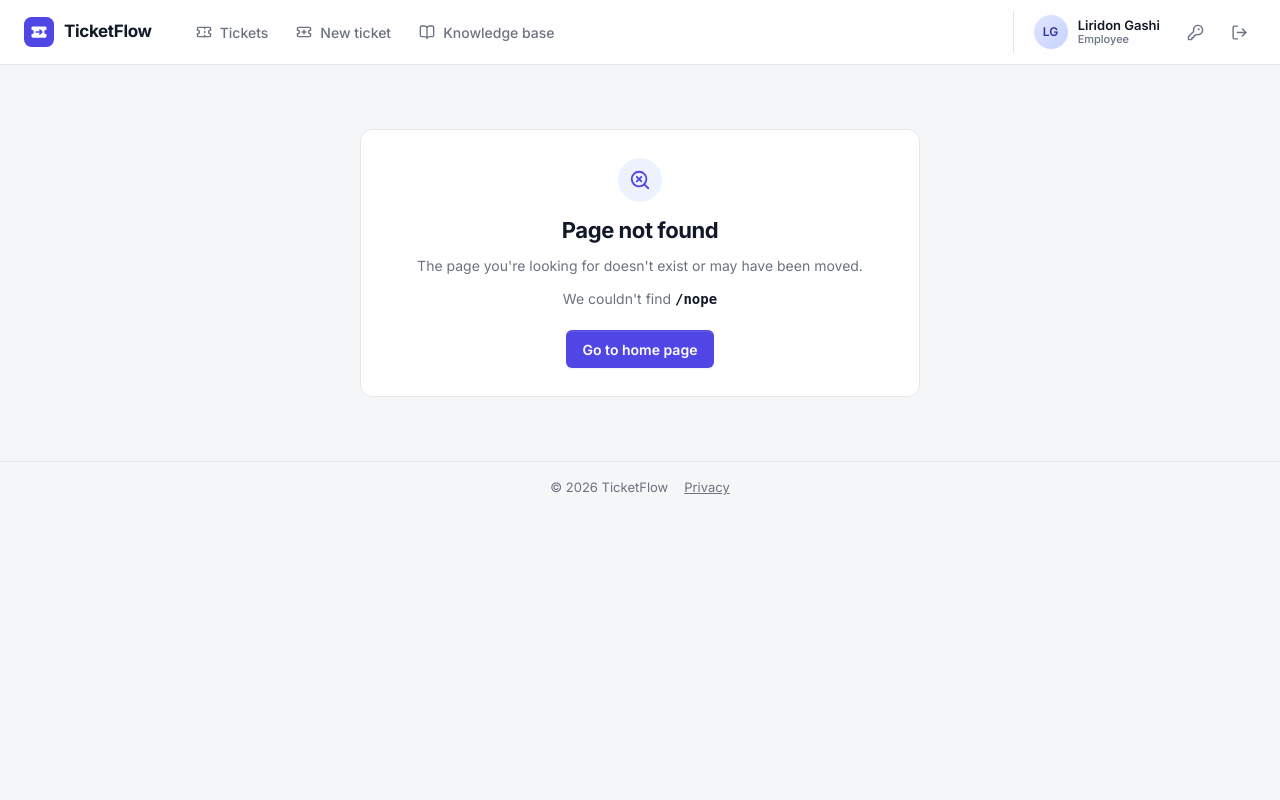
Test: a URL that matches no route › the top bar works from it
Click the link "New ticket". click: [344, 32]
box: [296,24,391,40]
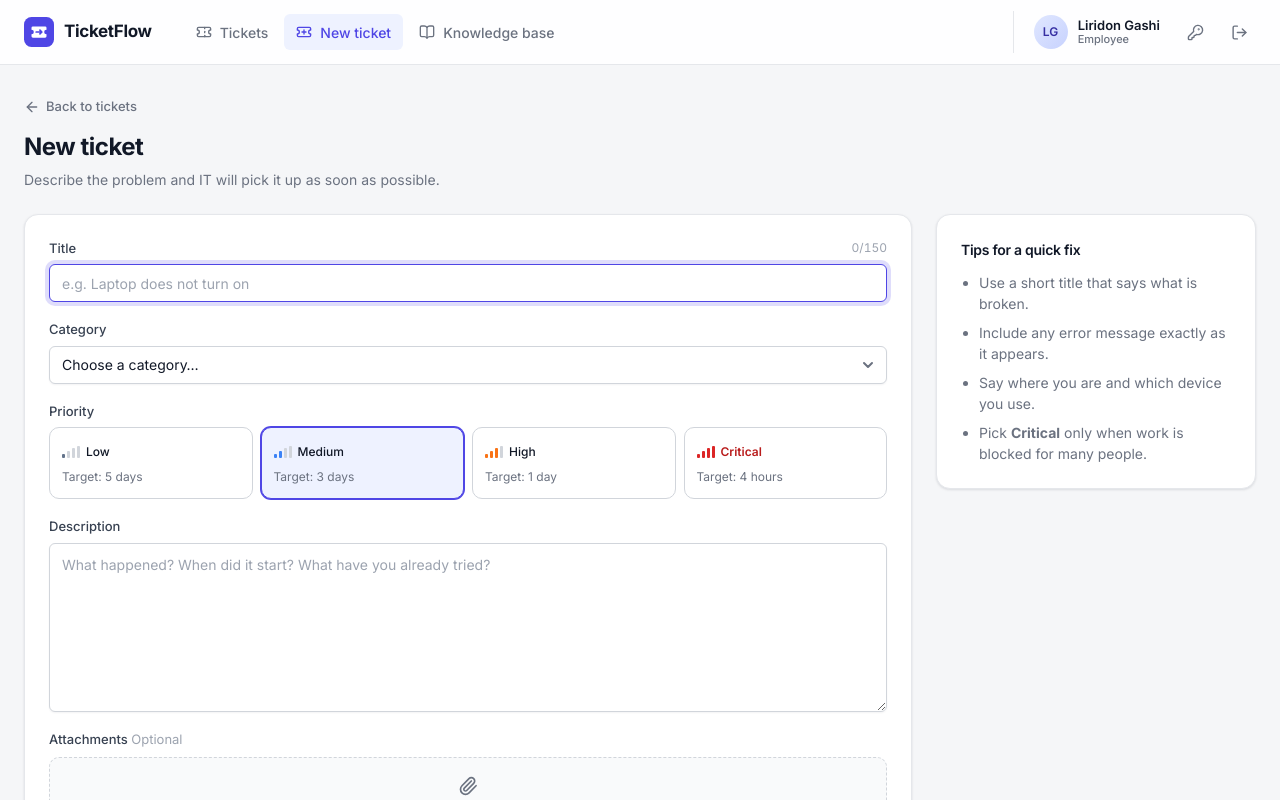
Now the heading "Page not found" is gone
